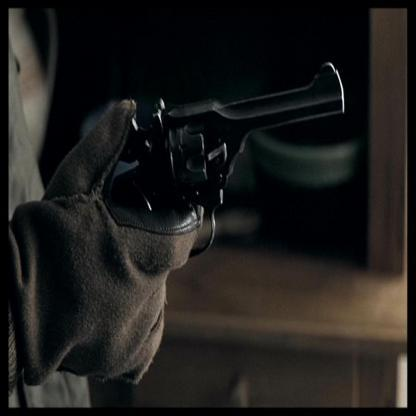gun: (129, 68, 354, 192)
